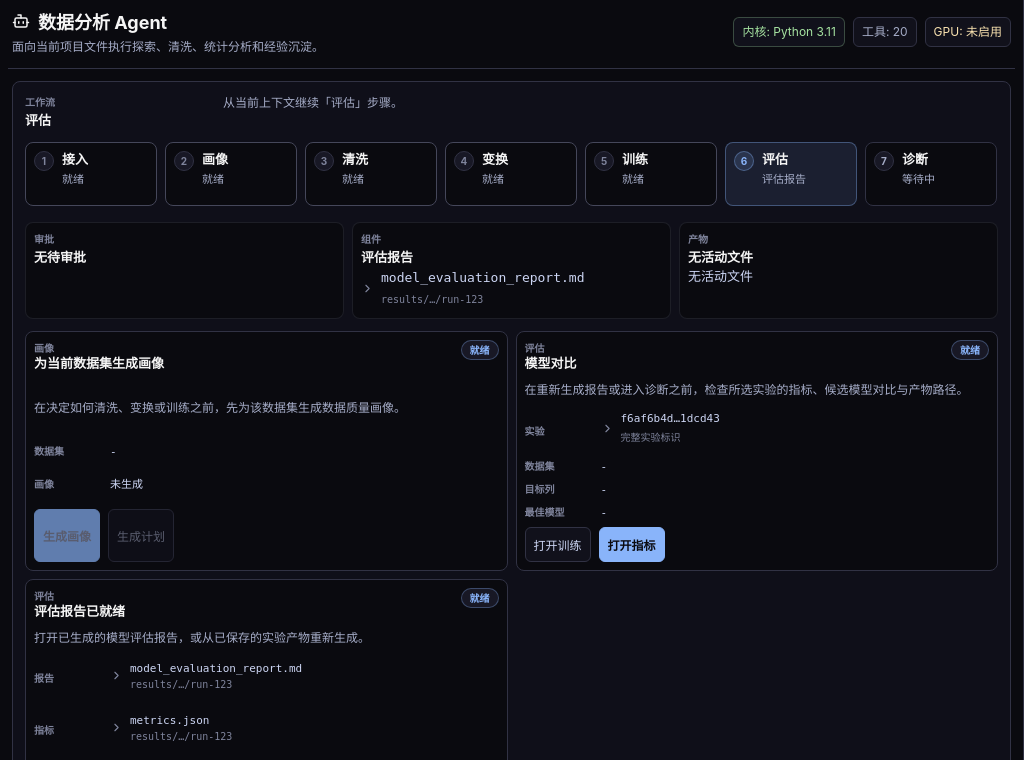
Test case: cockpit information disclosure › shows a friendly artifact name, reveals the canonical path, and copies it
What coordinates should you click on to do the following:
click the text "model_evaluation_report.md" below "打开已生成的模型评估报告，或从已保存的实验产物重新生成。"
I would click on:
 (216, 668)
Its box is [130,662,302,675].
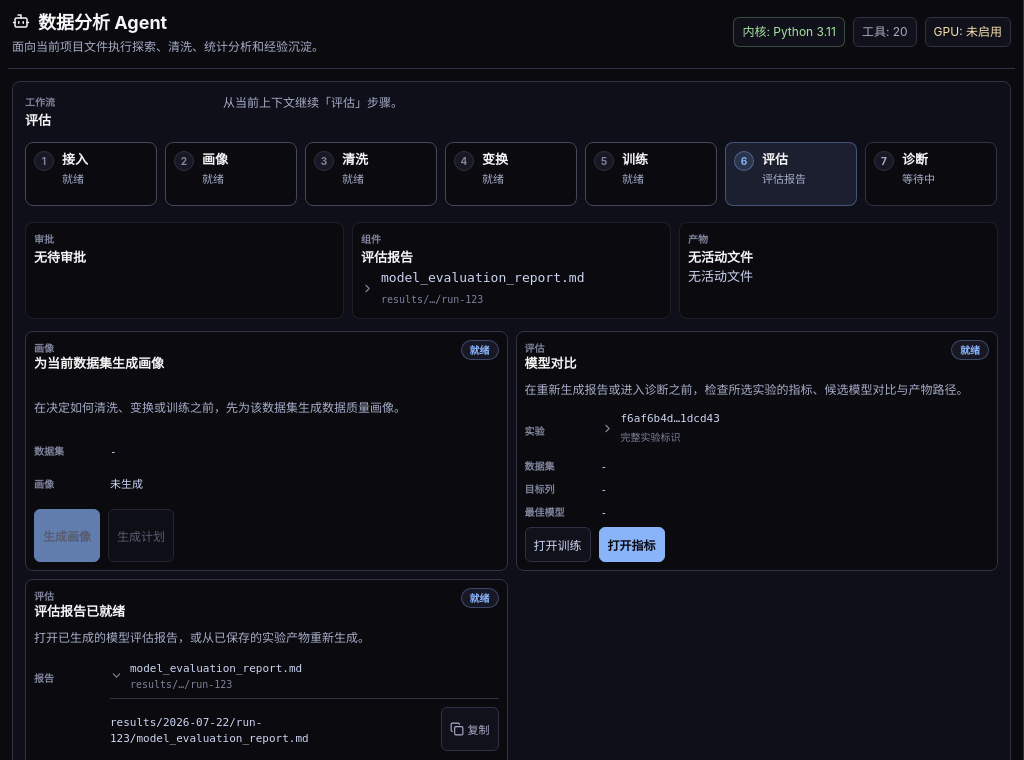
Check: the text "results/2026-07-22/run-123/model_evaluation_report.md" is shown, box [110,716,309,746]
What coordinates should you click on to do the following:
click the button with aria-label "复制报告完整值"
I would click on:
 (470, 729)
Its box is [440,707,498,751].
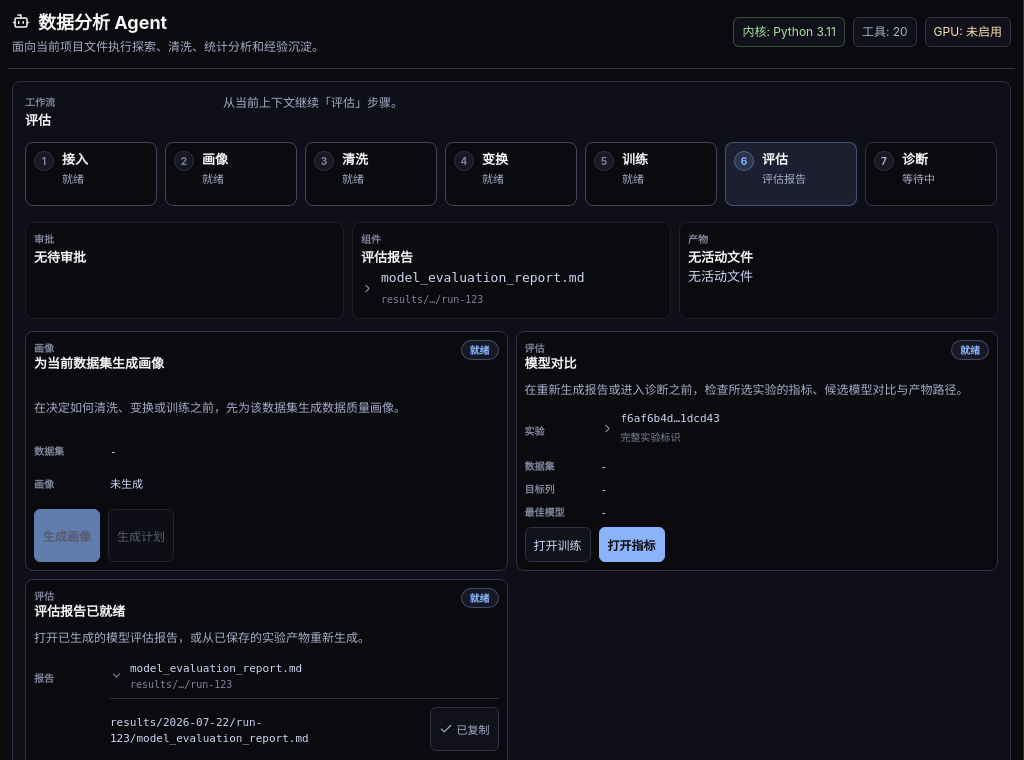
Check: the text "已复制" is shown, box [456,721,490,737]
